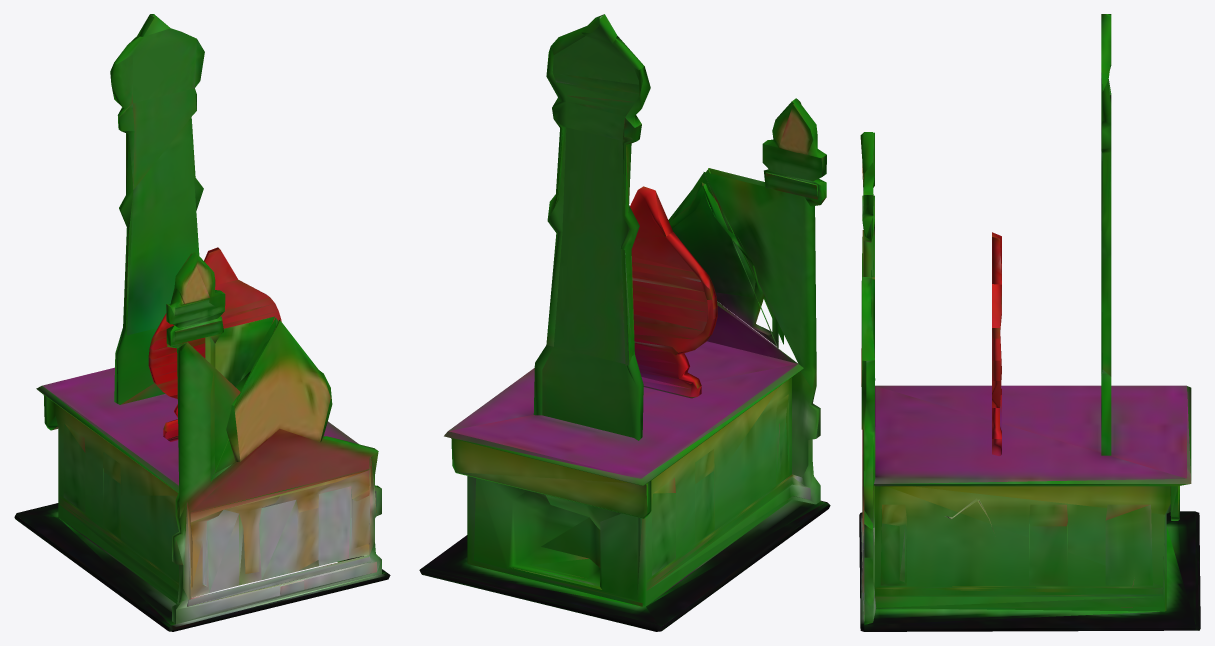
The model's file is pospam_lebaran_1_lod2.glb.
The picture shows the model from 3 angles, left to right: view 1: azimuth 30°, elevation 25°; view 2: azimuth 150°, elevation 25°; view 3: azimuth 270°, elevation 25°; orthographic projection. The views are drawn at different scales.
Visible parts, largest first — view 1: tripo_node_f6433ee3; view 2: tripo_node_f6433ee3; view 3: tripo_node_f6433ee3.
Boxes of the visible parts, x1,y1,x2,y2 form: tripo_node_f6433ee3: (14, 14, 390, 631); tripo_node_f6433ee3: (419, 14, 830, 631); tripo_node_f6433ee3: (859, 14, 1200, 631).
Size of the model in its own units: 0.4557 by 0.999 by 0.5587.
1 material, 1 textured.
